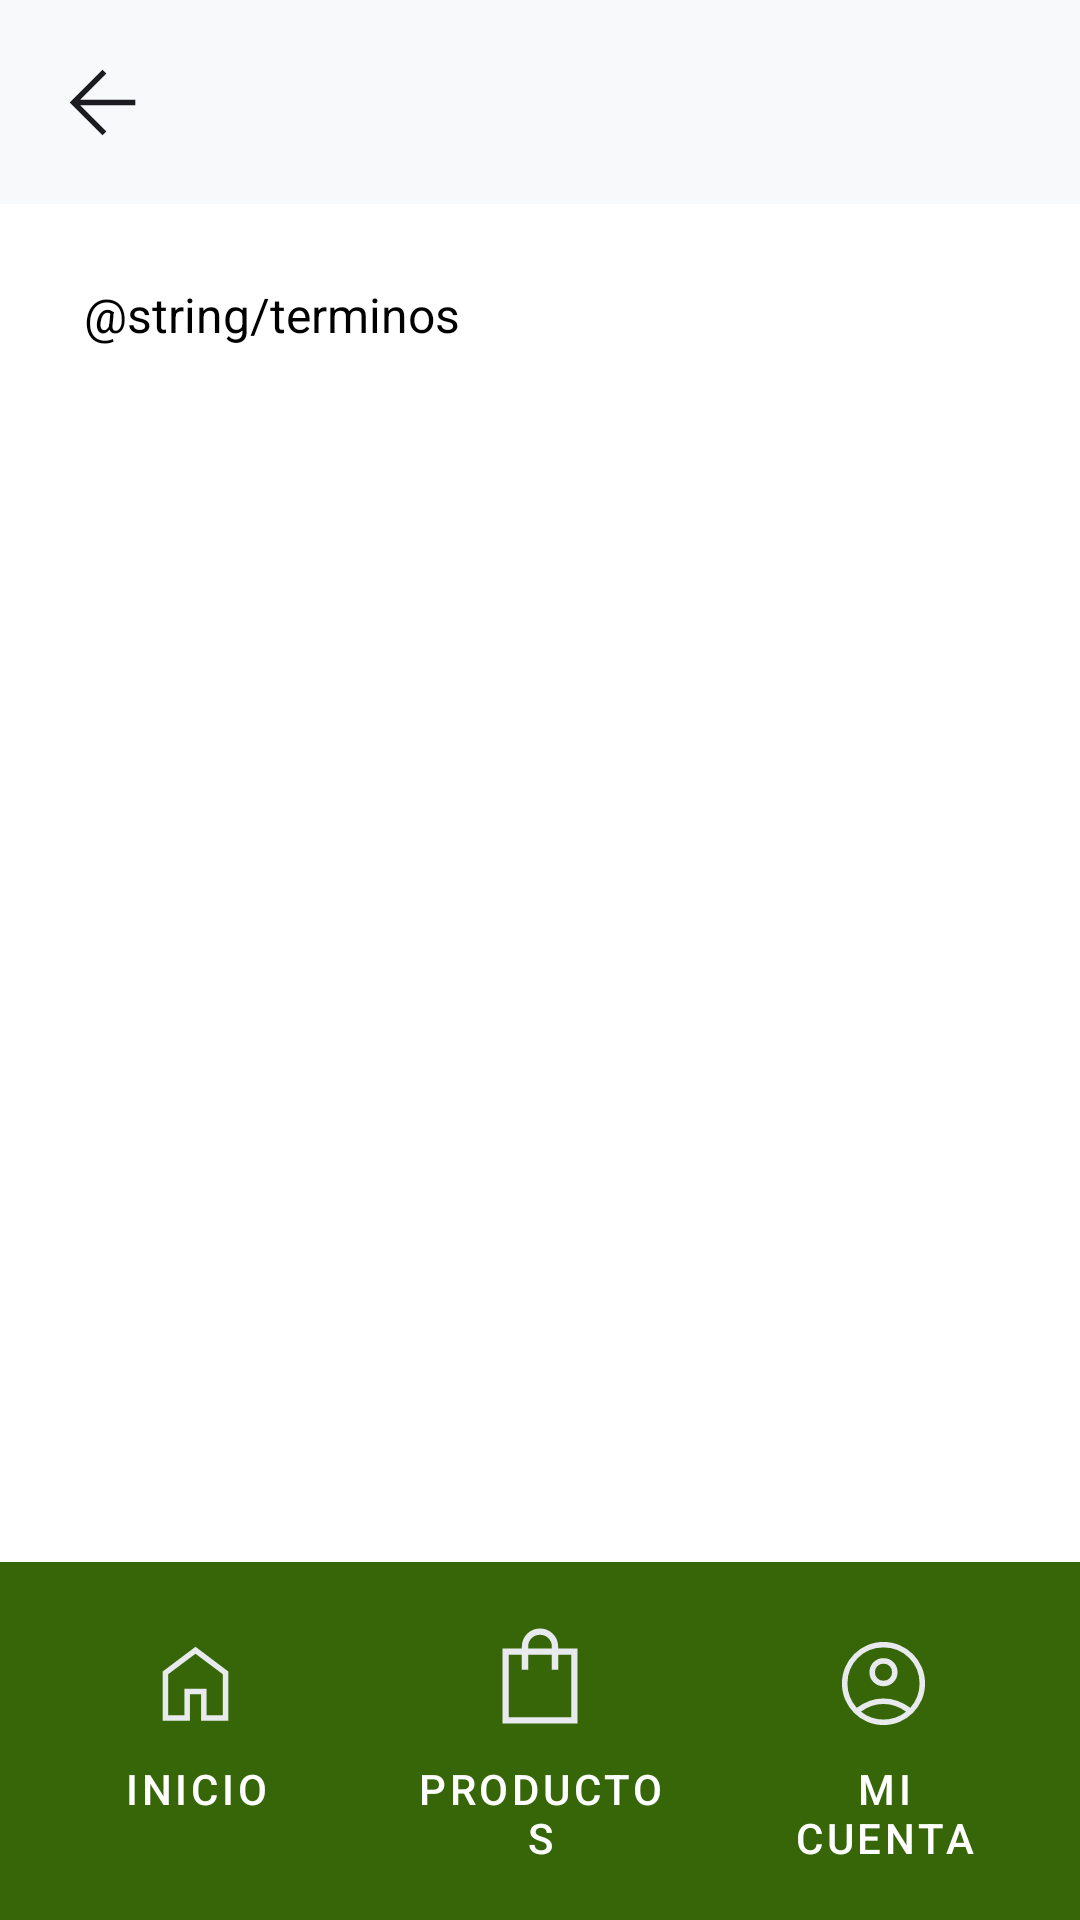

Locate icon controls on the screen. Image size 1080 x 1920, boxes as (x1, y1, x2, y2).
Volver: (70, 70, 136, 135)
